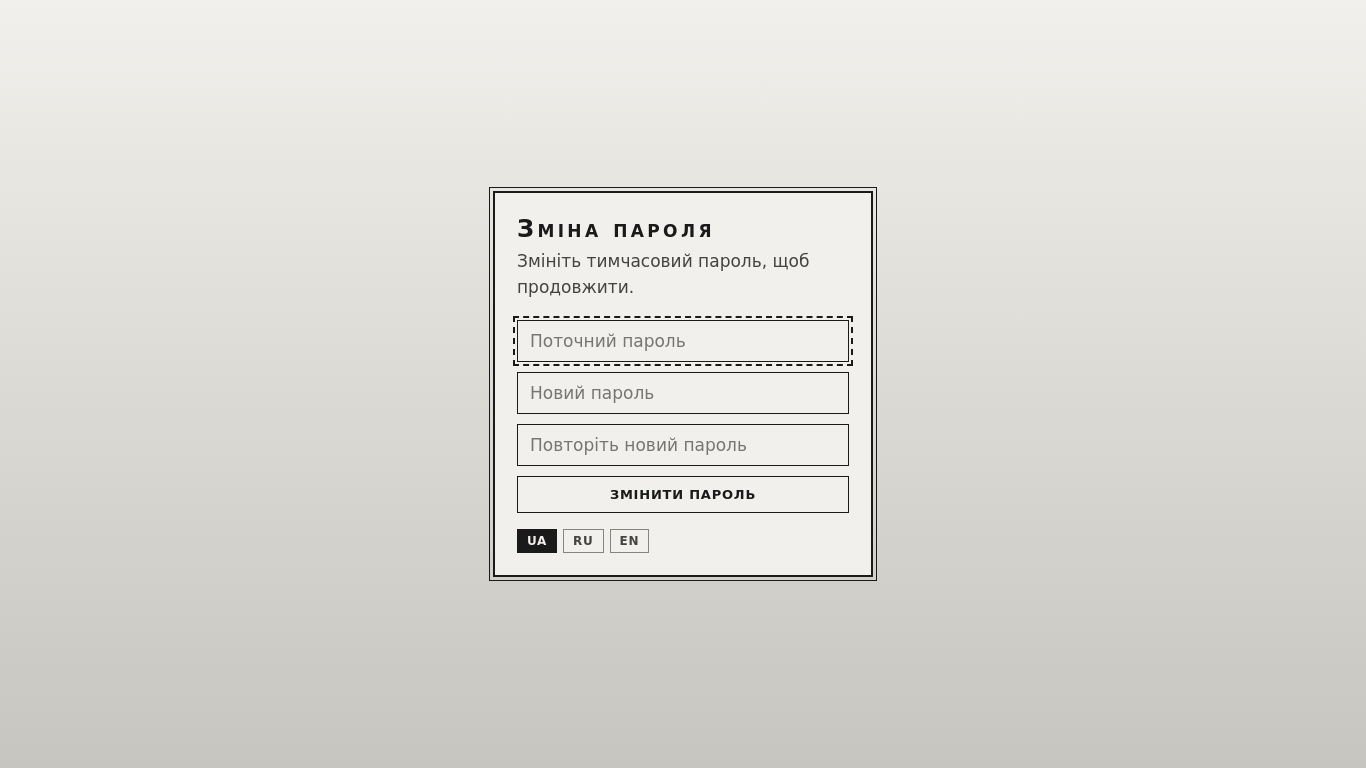
ChangePasswordPage › shows the server error message when the API rejects the change
In the password field with placeholder "Поточний пароль": (683, 341) [517,320,849,362], type "wrong"
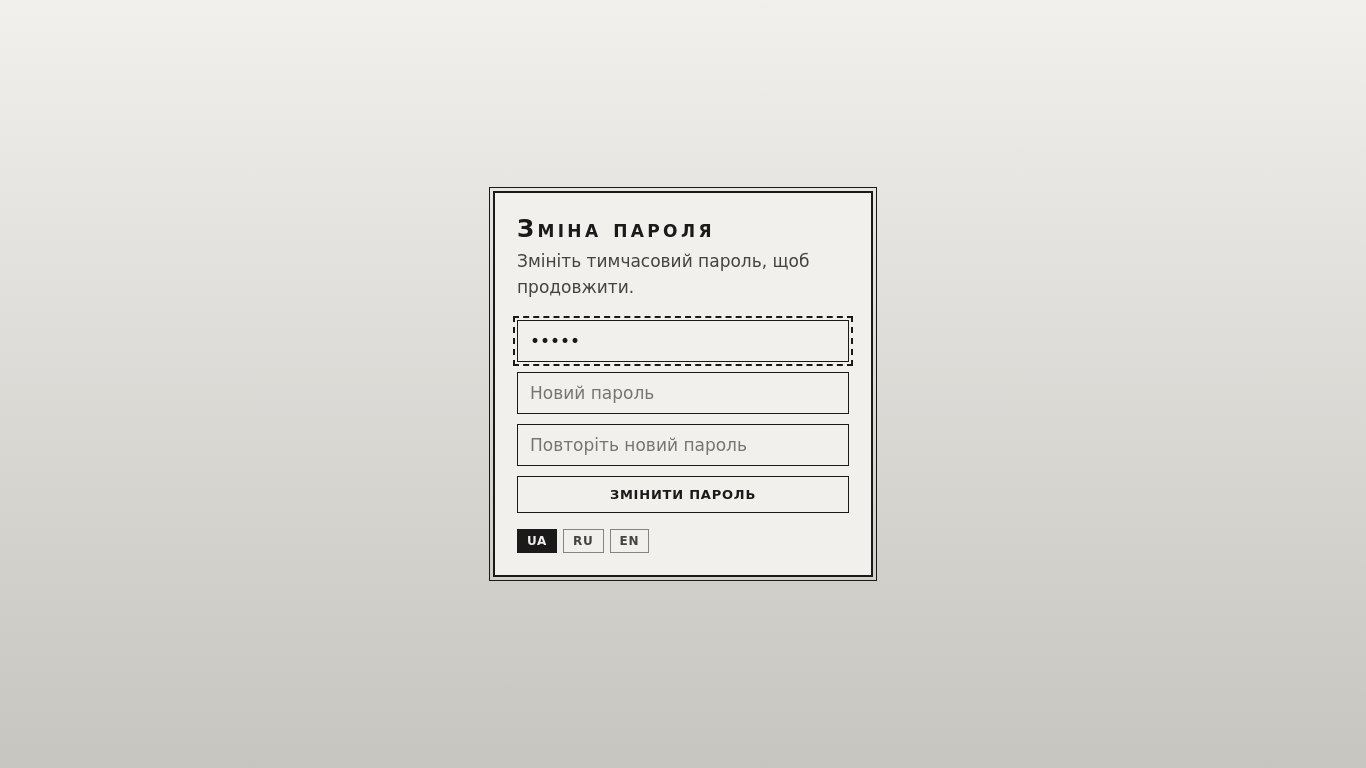
In the password field with placeholder "Новий пароль": (683, 393) [517,372,849,414], type "newpass1"
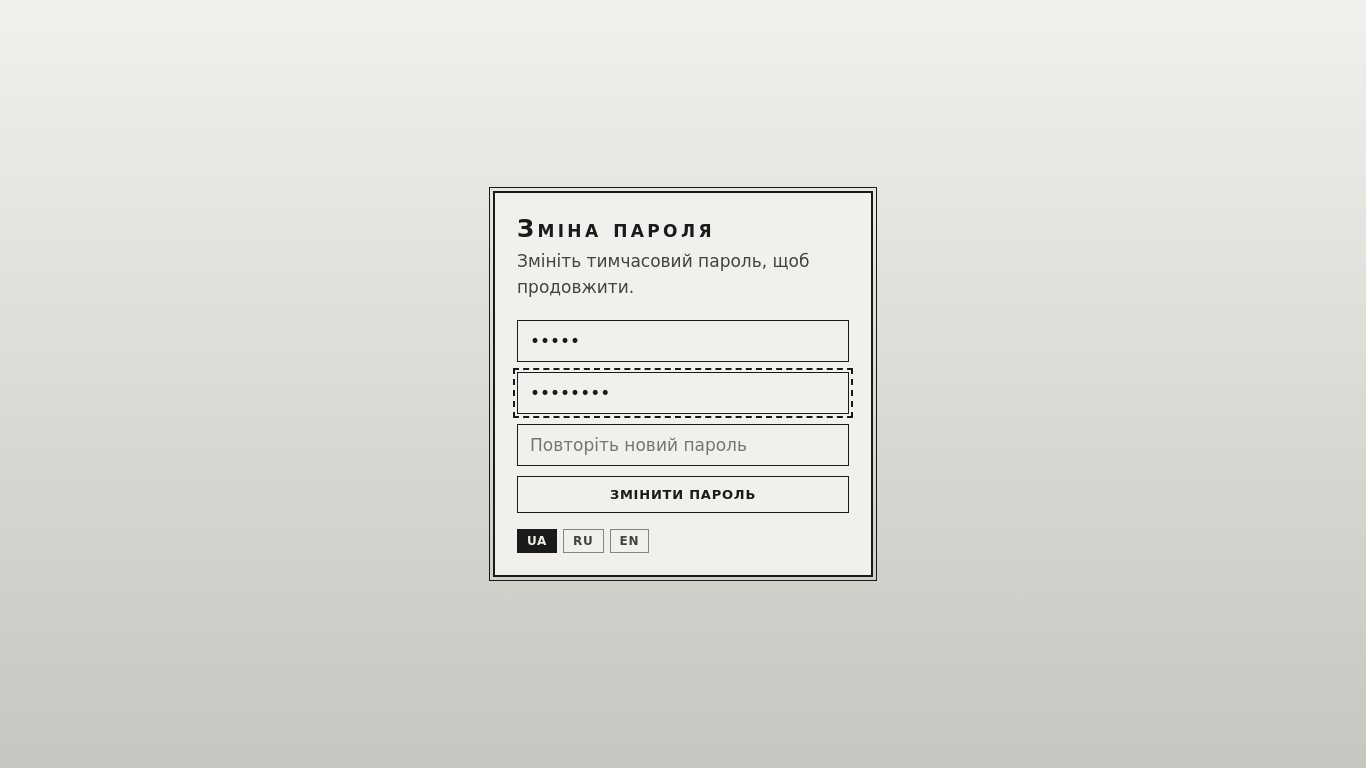
In the password field with placeholder "Повторіть новий пароль": (683, 445) [517,424,849,466], type "newpass1"
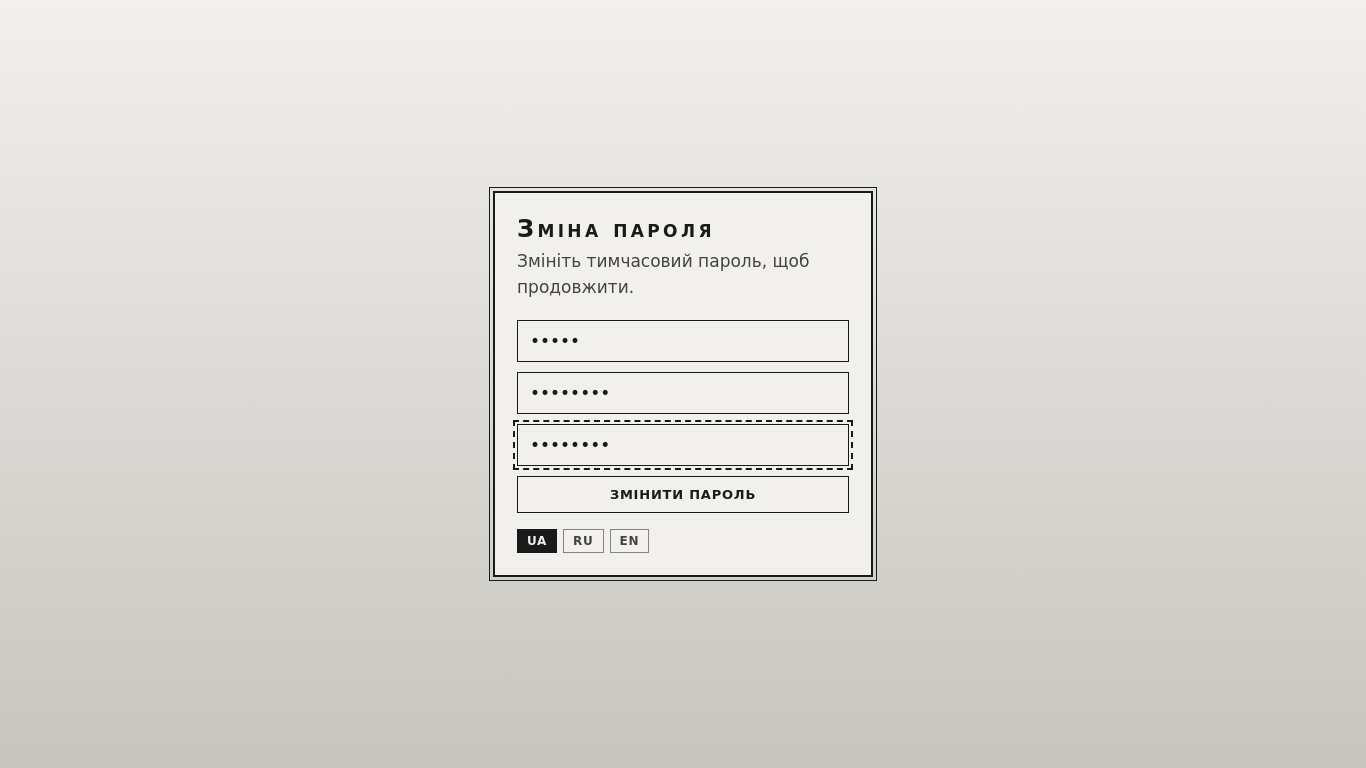
Click the button "Змінити пароль": (683, 494) [517,476,849,513]
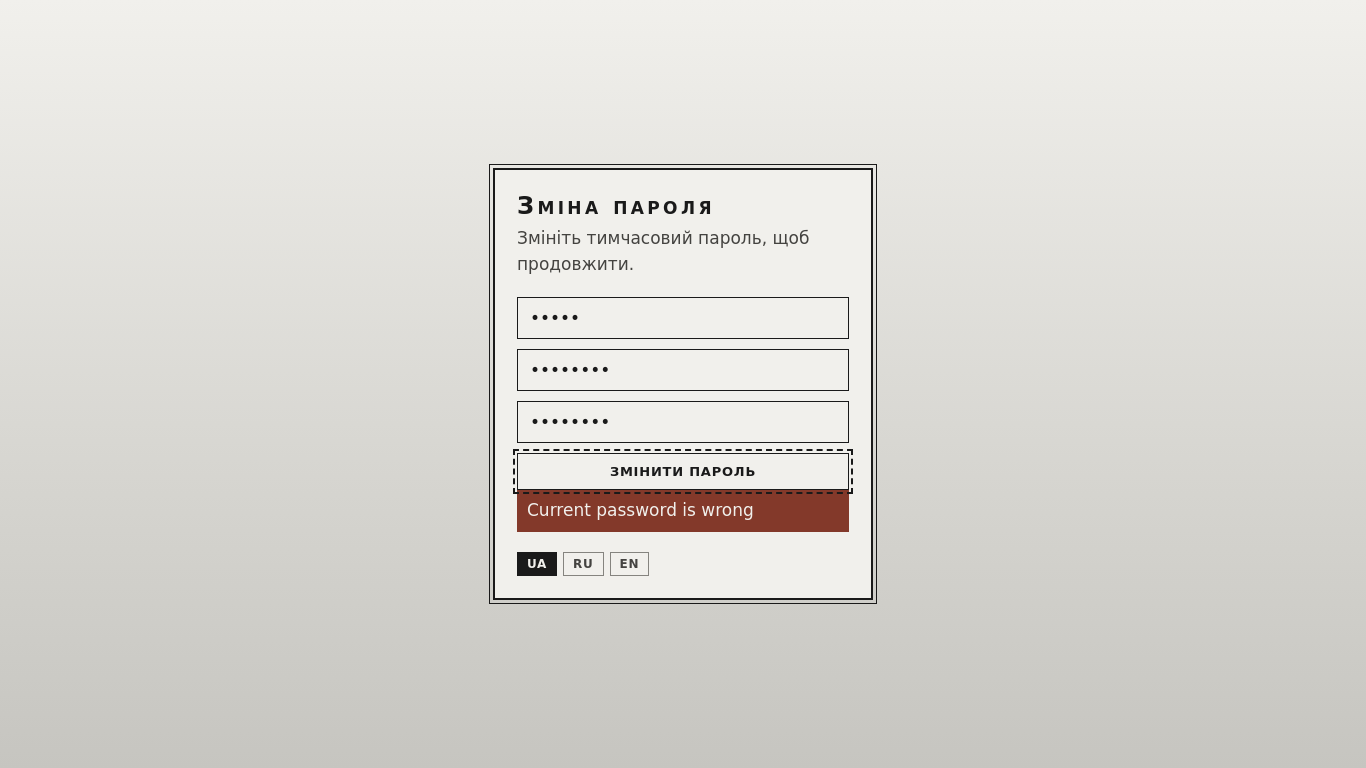
Result: the text "Current password is wrong" is shown at [517,490,849,532]
